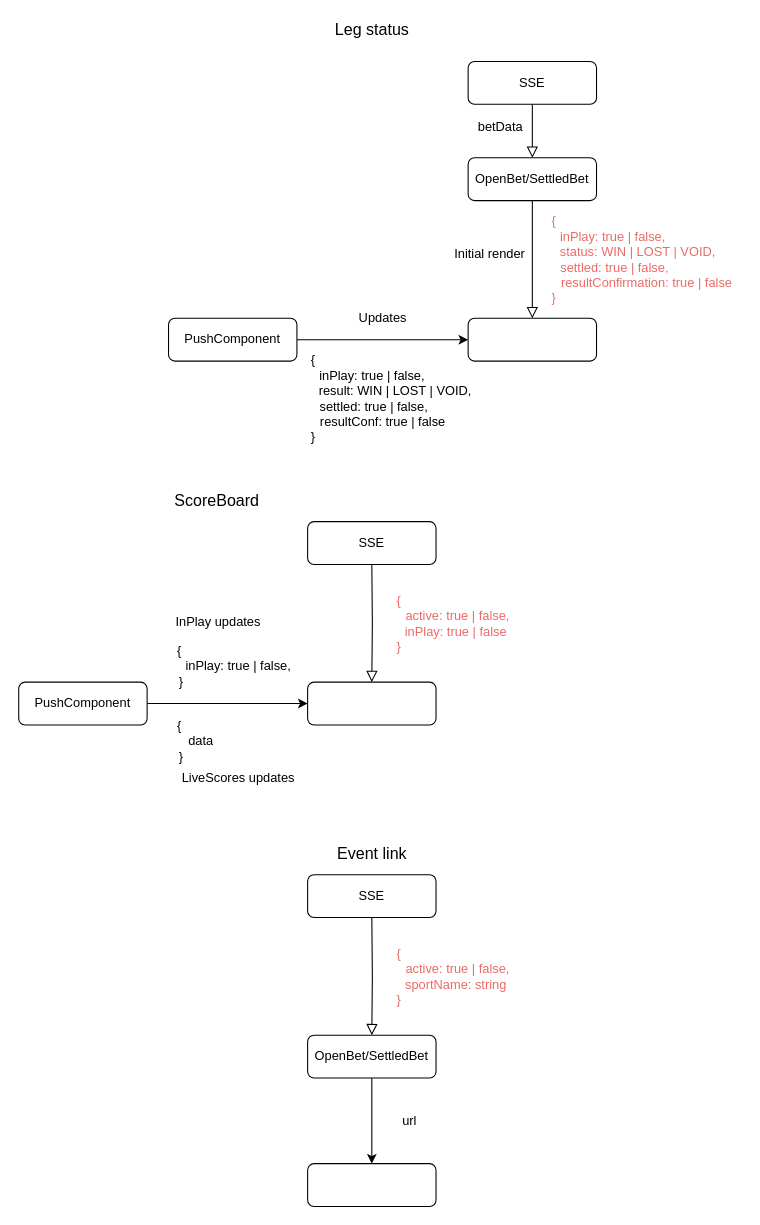
Image size: 760x1225. Some labels were removed from this diagram. Each missing label, with the centre of its shape:
Leg (ScoreBoards): [371,703]
Leg (url): [371,1184]
LegStatus: [532,339]
